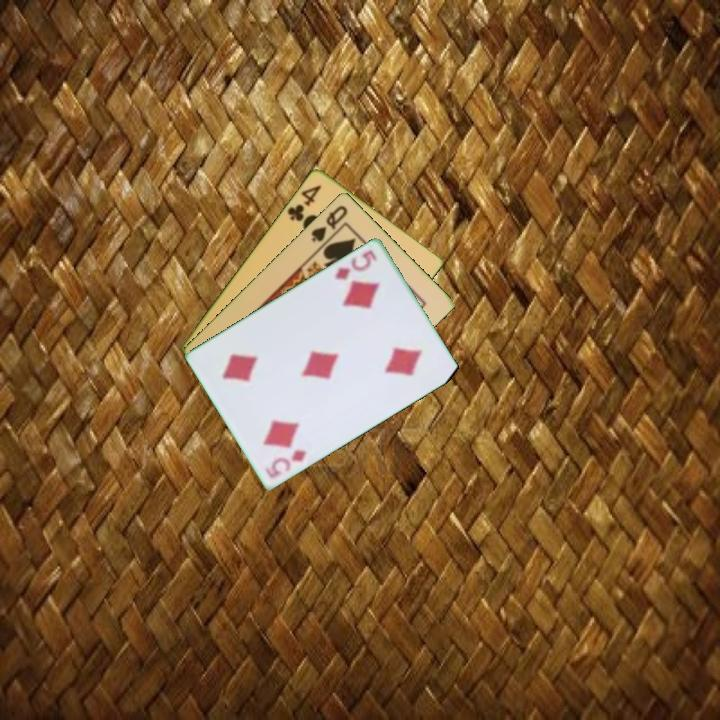4c: (283, 180, 324, 224)
5d: (331, 246, 380, 283), (262, 446, 310, 481)
Qs: (307, 201, 350, 245)
